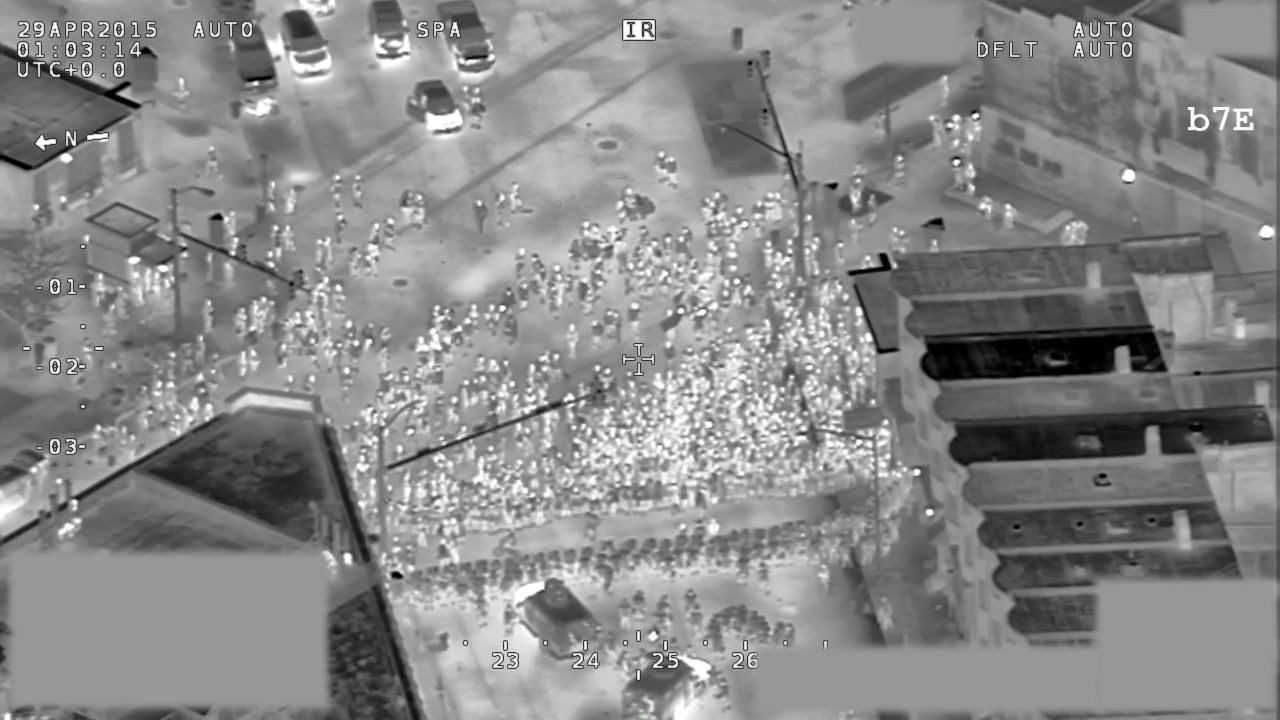vehicle: (503, 575, 604, 664), (623, 649, 719, 719), (215, 6, 278, 94), (274, 10, 340, 86), (433, 1, 500, 75), (399, 80, 472, 142), (365, 1, 421, 67)
